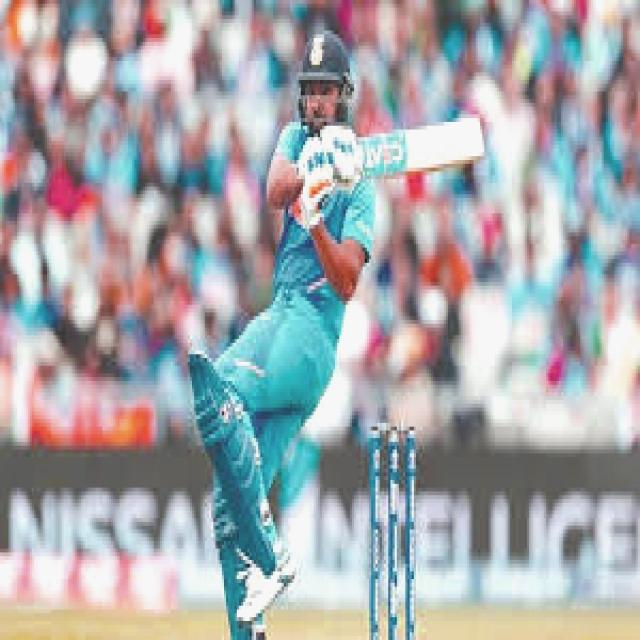toe: (470, 106, 488, 172)
